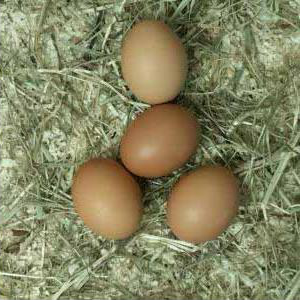egg: (119, 104, 200, 178), (73, 157, 143, 239), (121, 20, 189, 103), (167, 166, 240, 241)
